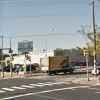crosswalk: (0, 80, 69, 92)
